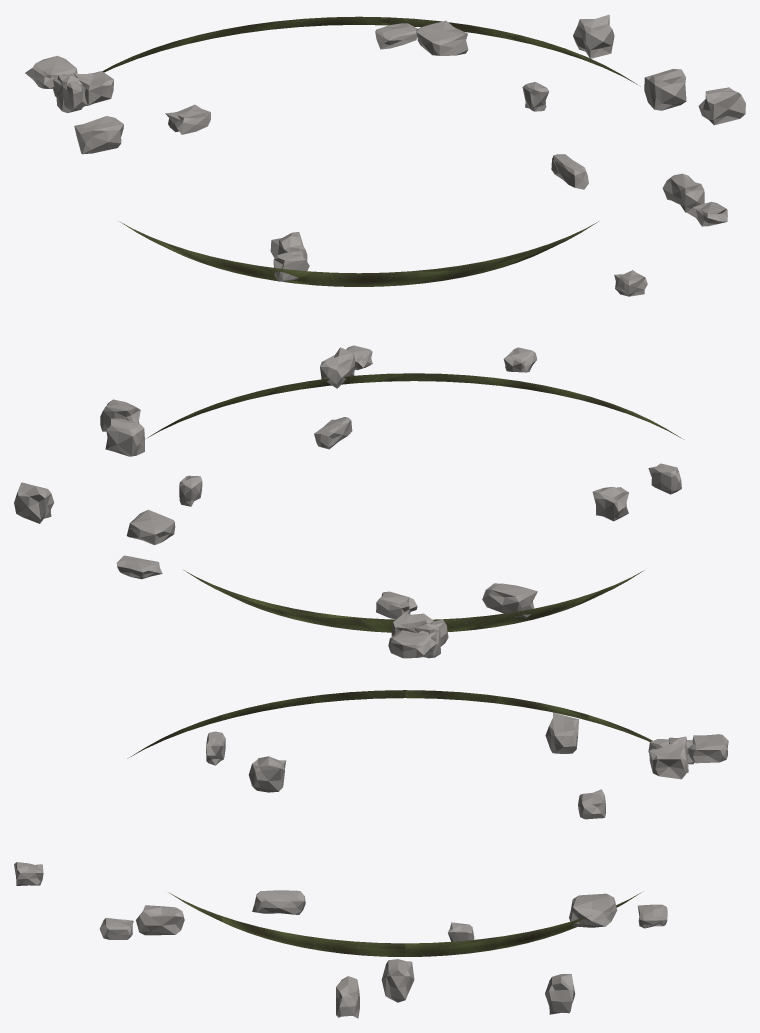
Rendered from impact_crater.glb.
The picture shows the model from 3 angles, top to bottom: view 1: azimuth 30°, elevation 25°; view 2: azimuth 150°, elevation 25°; view 3: azimuth 270°, elevation 25°; orthographic projection. The views are drawn at different scales.
Parts seen in each view (by area): view 1: crater_surface, crater_debris_15, crater_debris_11, crater_debris_09, crater_debris_05, crater_debris_06, crater_debris_08, crater_debris_01, crater_debris_10, crater_debris_17, crater_debris_13, crater_debris_07 (+6 smaller); view 2: crater_surface, crater_debris_11, crater_debris_15, crater_debris_05, crater_debris_09, crater_debris_01, crater_debris_03, crater_debris_08, crater_debris_10, crater_debris_13, crater_debris_07, crater_debris_04 (+4 smaller); view 3: crater_surface, crater_debris_09, crater_debris_08, crater_debris_13, crater_debris_15, crater_debris_17, crater_debris_03, crater_debris_11, crater_debris_01, crater_debris_05, crater_debris_06, crater_debris_10 (+4 smaller).
Part boxes in pixels (bbox=[...]): crater_surface: bbox=[102, 16, 640, 286]; crater_debris_15: bbox=[644, 69, 686, 110]; crater_debris_11: bbox=[74, 116, 123, 154]; crater_debris_09: bbox=[416, 20, 468, 55]; crater_debris_05: bbox=[573, 14, 614, 58]; crater_debris_06: bbox=[698, 87, 745, 125]; crater_debris_08: bbox=[662, 173, 704, 212]; crater_debris_01: bbox=[25, 55, 77, 88]; crater_debris_10: bbox=[165, 104, 210, 134]; crater_debris_17: bbox=[74, 71, 113, 106]; crater_debris_13: bbox=[551, 154, 588, 189]; crater_debris_07: bbox=[375, 23, 417, 49]; crater_surface: bbox=[146, 373, 683, 632]; crater_debris_11: bbox=[482, 583, 537, 617]; crater_debris_15: bbox=[105, 418, 144, 456]; crater_debris_05: bbox=[14, 482, 54, 523]; crater_debris_09: bbox=[126, 509, 175, 545]; crater_debris_01: bbox=[388, 630, 437, 658]; crater_debris_03: bbox=[592, 487, 628, 521]; crater_debris_08: bbox=[320, 347, 354, 388]; crater_debris_10: bbox=[376, 591, 417, 619]; crater_debris_13: bbox=[314, 417, 352, 449]; crater_debris_07: bbox=[116, 555, 162, 579]; crater_debris_04: bbox=[648, 463, 681, 494]; crater_surface: bbox=[127, 690, 652, 956]; crater_debris_09: bbox=[569, 893, 617, 927]; crater_debris_08: bbox=[136, 905, 184, 935]; crater_debris_13: bbox=[252, 890, 305, 914]; crater_debris_15: bbox=[381, 959, 414, 1002]; crater_debris_17: bbox=[649, 744, 686, 779]; crater_debris_03: bbox=[248, 756, 286, 792]; crater_debris_11: bbox=[545, 712, 578, 753]; crater_debris_01: bbox=[688, 734, 728, 763]; crater_debris_05: bbox=[545, 974, 575, 1014]; crater_debris_06: bbox=[336, 976, 359, 1018]; crater_debris_10: bbox=[578, 789, 605, 819].
Bounding box in the file's own units: 3.38 × 0.5172 × 3.33.
Materials: 2 (2 with a texture image).
